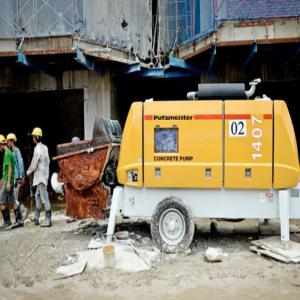yellow: (33, 127, 43, 146), (7, 134, 17, 150), (2, 136, 8, 154)
